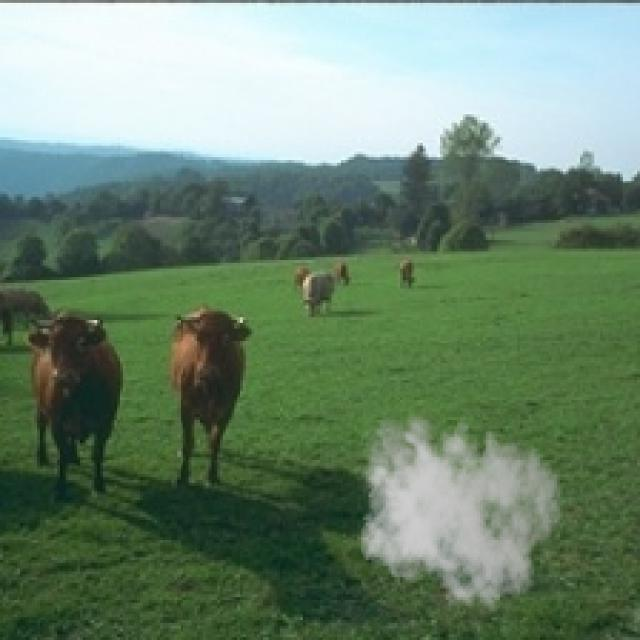smoke: (351, 403, 563, 614)
